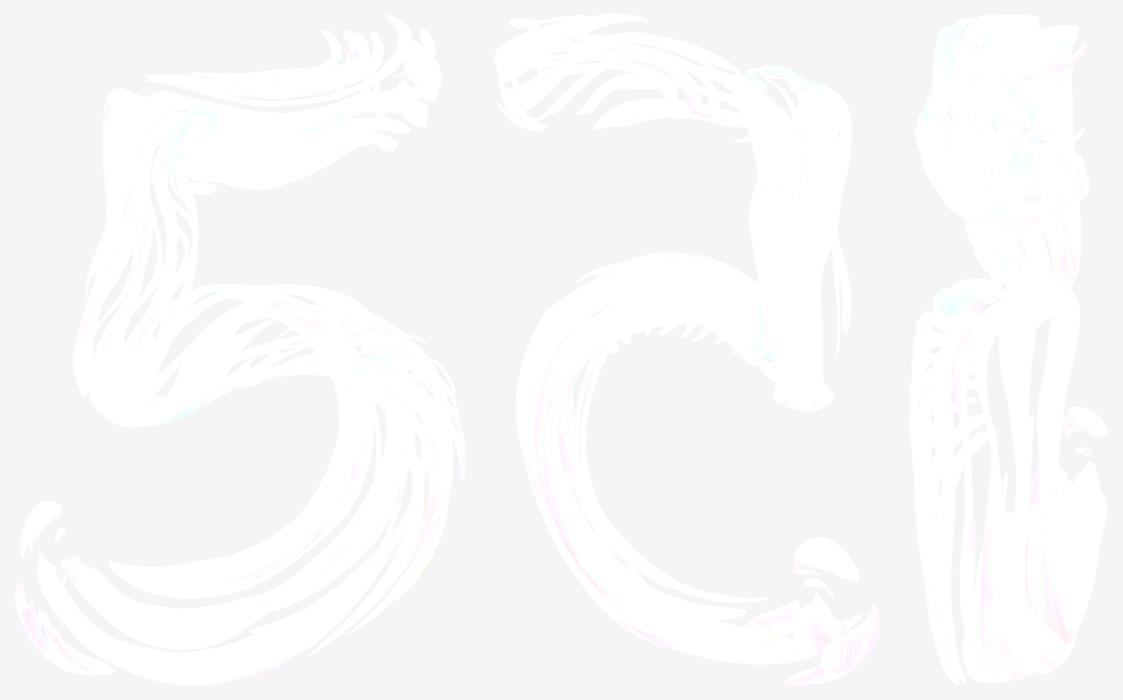
File: five.gltf
The picture shows the model from 3 angles, left to right: view 1: azimuth 30°, elevation 25°; view 2: azimuth 150°, elevation 25°; view 3: azimuth 270°, elevation 25°; orthographic projection. The views are drawn at different scales.
Visible parts, largest first — view 1: low5_largeshape, low5_elemnts; view 2: low5_largeshape, low5_elemnts; view 3: low5_largeshape, low5_elemnts.
Boxes of the visible parts, x1,y1,x2,y2 form: low5_largeshape: (37, 29, 465, 685); low5_elemnts: (14, 14, 412, 675); low5_largeshape: (494, 14, 860, 664); low5_elemnts: (498, 20, 880, 685); low5_largeshape: (909, 14, 1107, 685); low5_elemnts: (947, 37, 1108, 645).
Bounding box in the file's own units: 1.33 × 1.97 × 0.5658.
Materials: 2 (2 with a texture image).
